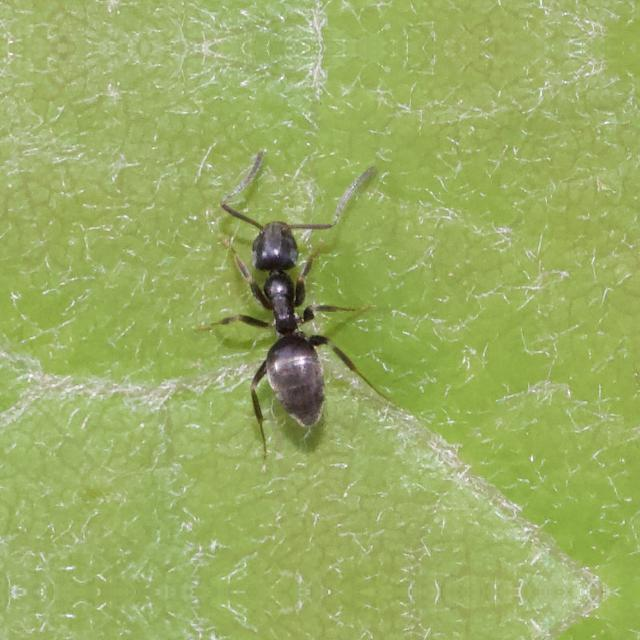Tapinoma: (188, 167, 386, 449)
